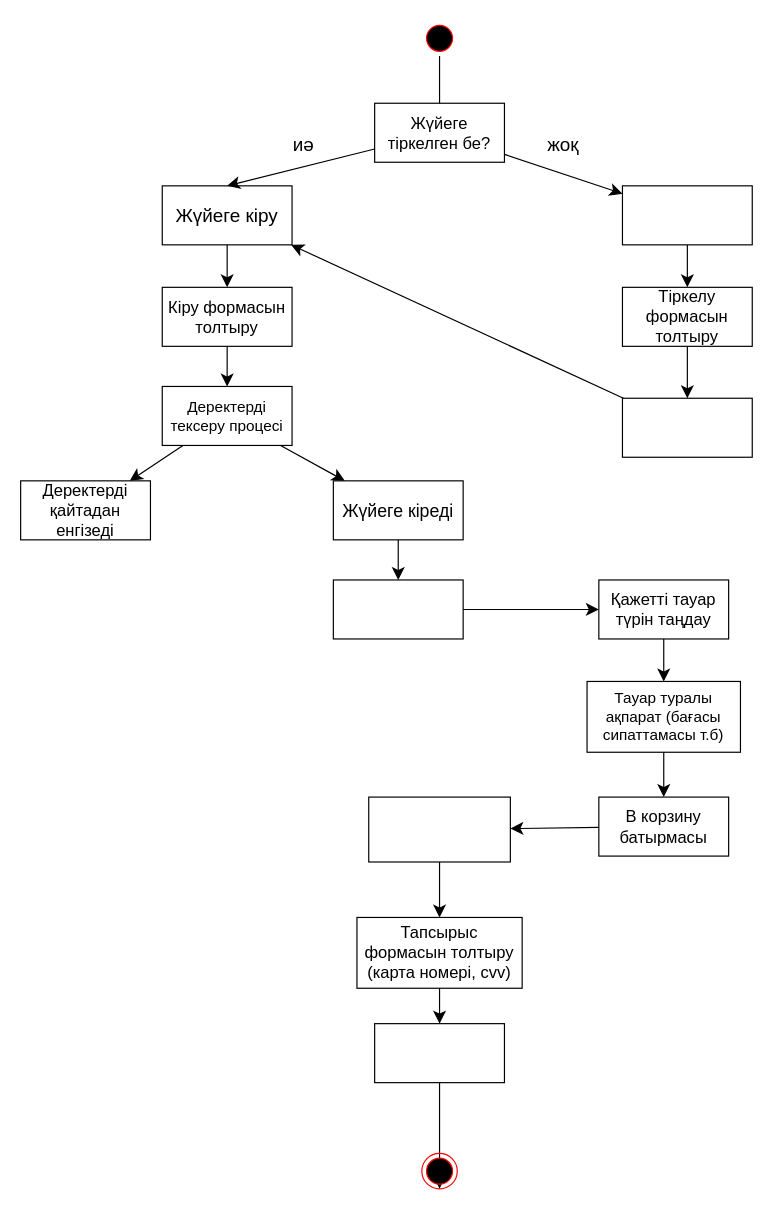
The diagram is 773 pixels wide and 1210 high, and some of its shapes have lost their labels. Each missing label, with the centre of its shape:
"Жүйеге тіркелу" belongs at (x=686, y=215).
"Корзинада тапсырыс батырмасы" belongs at (x=439, y=829).
"Тапсырыс беру" belongs at (x=438, y=1052).
"Тіркелу батырмасы" belongs at (x=686, y=427).
"Қажетті бөлімді таңдау" belongs at (x=397, y=609).
